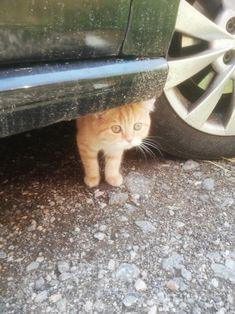kedo: (80, 102, 152, 186)
